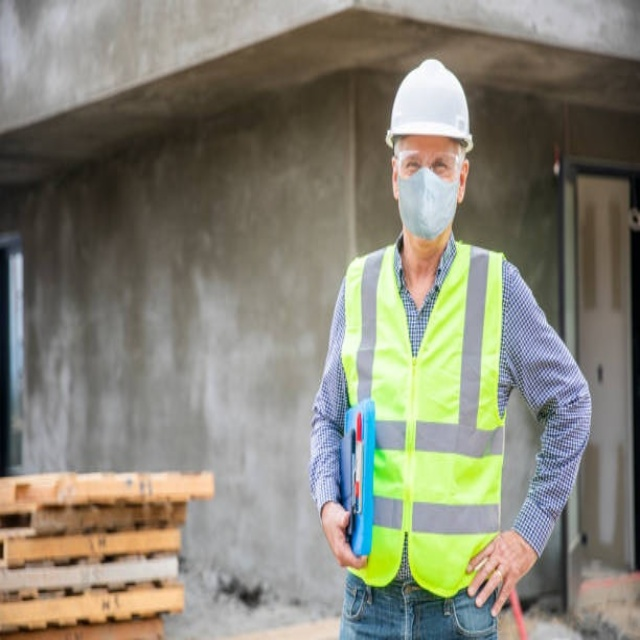Gafas: (394, 147, 467, 179)
Mascara: (396, 158, 461, 240)
Sin_guantes: (467, 529, 533, 615), (322, 502, 368, 572)
